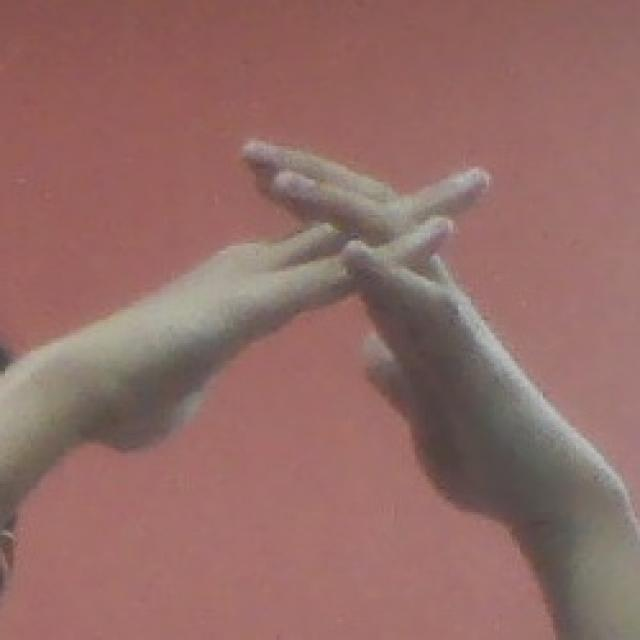Alphabet-W: (90, 126, 624, 512)
